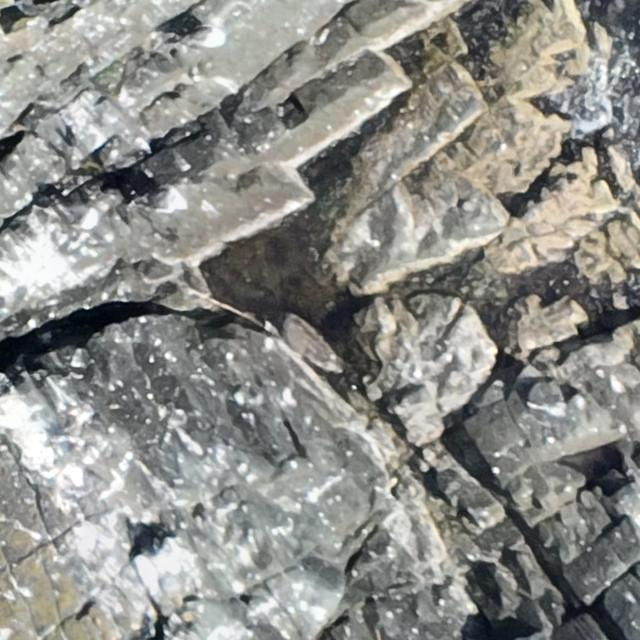umineko: (178, 27, 228, 47), (144, 187, 188, 209)
